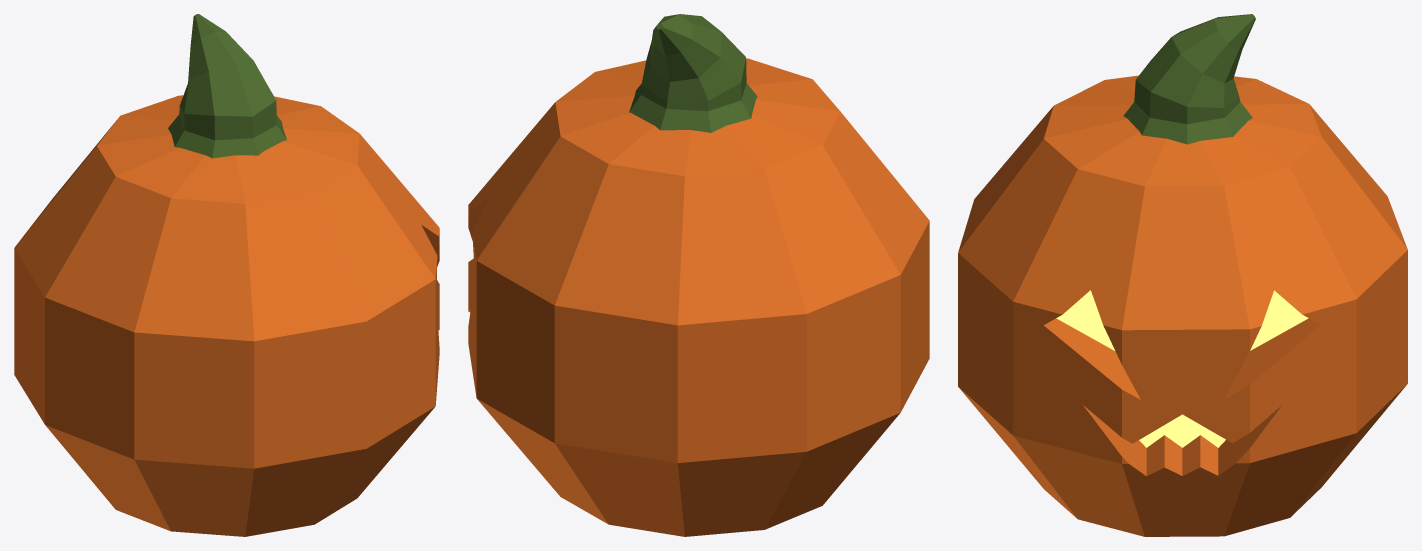
Rendered from pumpkinlantern.fbx.
The picture shows the model from 3 angles, left to right: view 1: azimuth 30°, elevation 25°; view 2: azimuth 150°, elevation 25°; view 3: azimuth 270°, elevation 25°; orthographic projection. The views are drawn at different scales.
Visible parts, largest first — view 1: Body -col; view 2: Body -col; view 3: Body -col.
Part boxes in pixels (x1=…): Body -col: x1=14, y1=14, x2=439, y2=536; Body -col: x1=468, y1=14, x2=929, y2=536; Body -col: x1=958, y1=14, x2=1407, y2=536.
Bounding box in the file's own units: 187 × 223 × 188.
